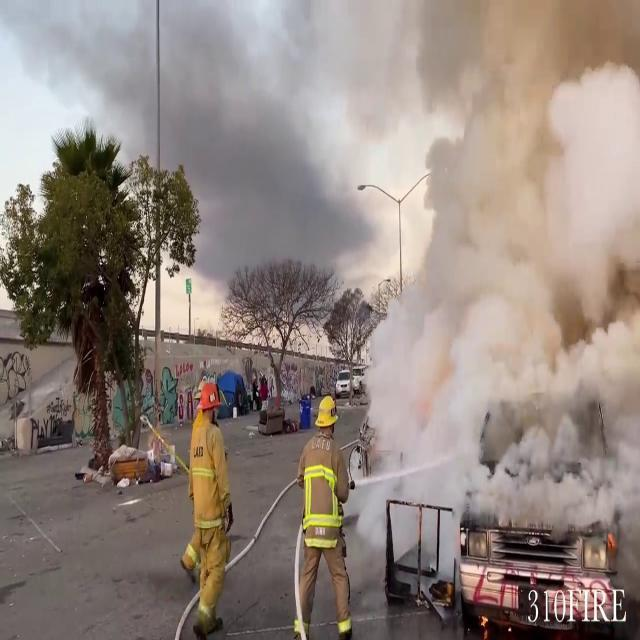Smoke: (362, 0, 640, 542)
